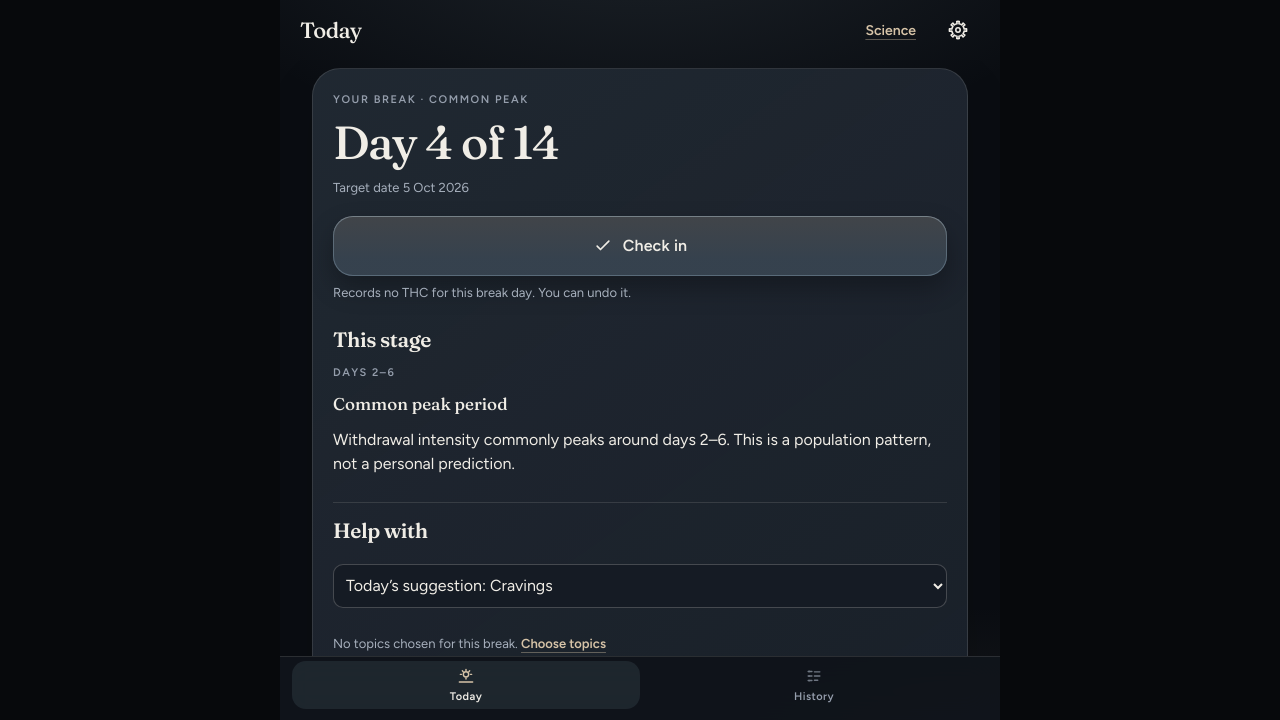
Scenario: check-in reminder › states what the reminder can and cannot do
Step 1. Click the button with test id "open-settings" → (958, 30), box [936,8,980,52]
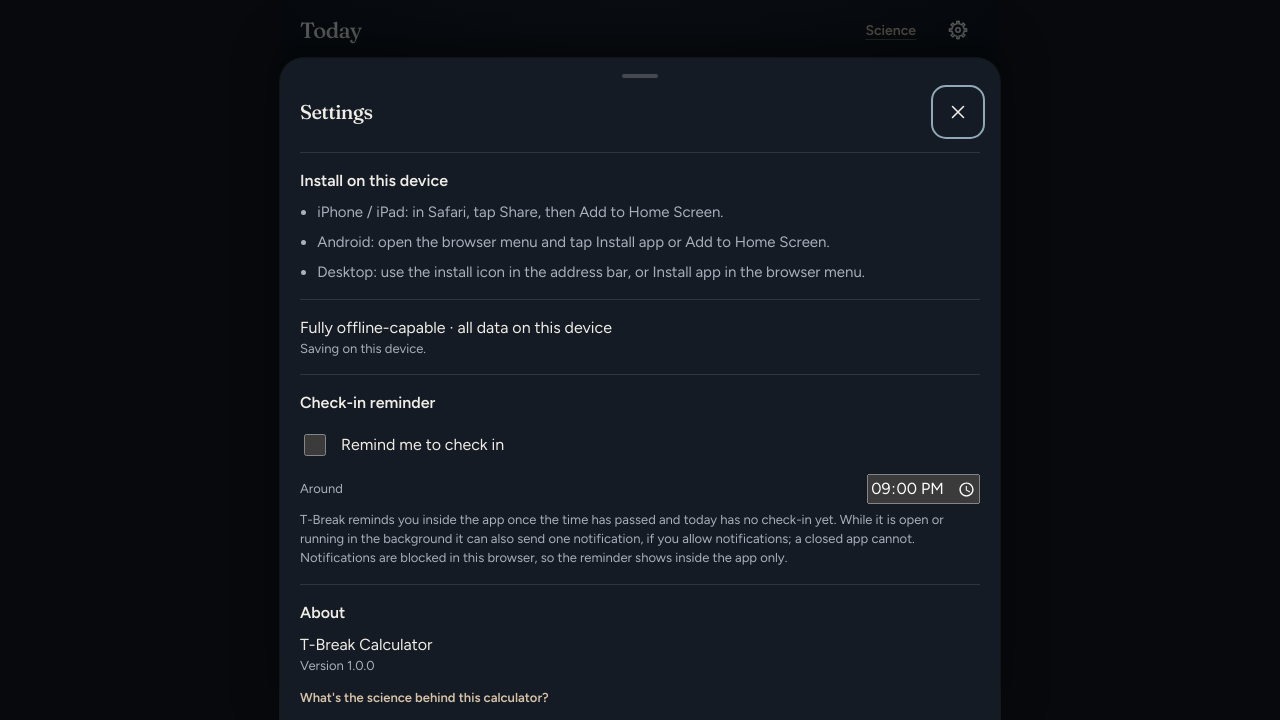
expect the text with test id "reminder-note" shows "a closed app cannot": met, box [300,512,944,546]
